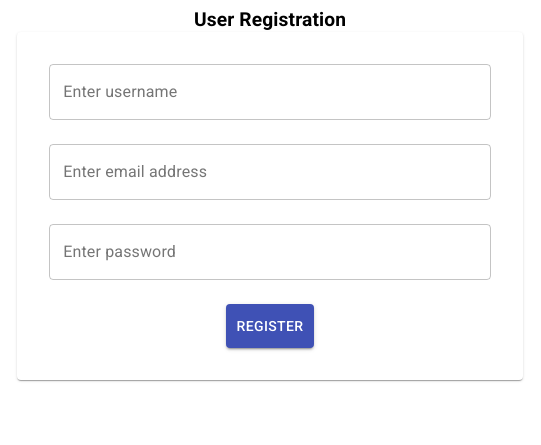
Test: Register from › should show invalid error message for password and email when input is invalid
Type "invalid email" into the field labelled "Enter email address".
click(270, 172); type("invalid email")  # box [49, 144, 491, 200]
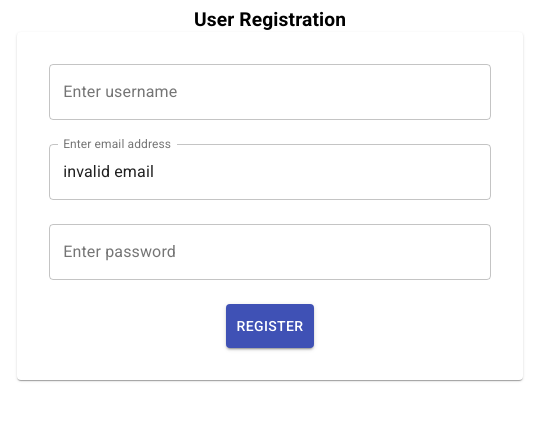
Type "pass" into the password field labelled "Enter password".
click(270, 252); type("pass")  # box [49, 224, 491, 280]
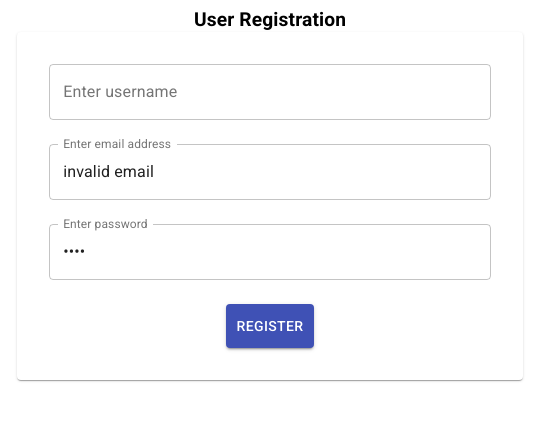
Type "valid username" into the field labelled "Enter username".
click(270, 92); type("valid username")  # box [49, 64, 491, 120]
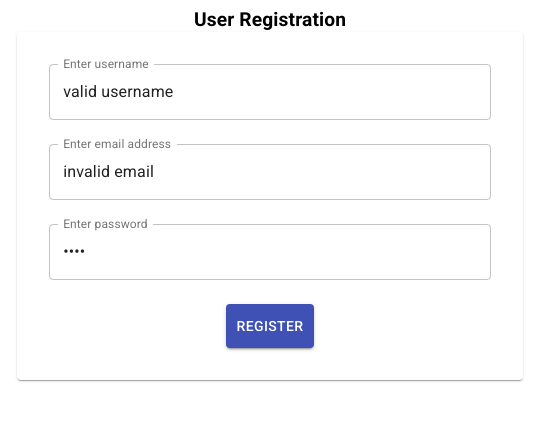
Click the button "Register".
click(270, 326)  # box [226, 304, 314, 348]
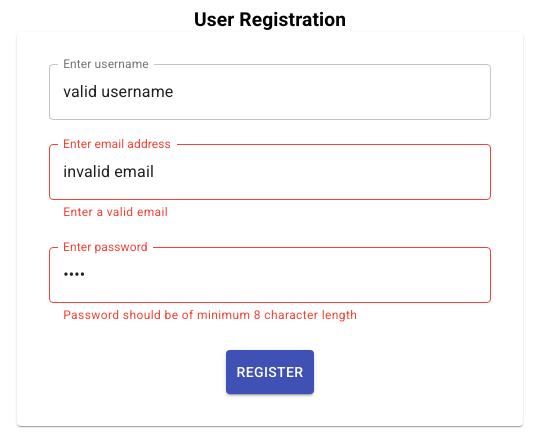
Check: the text "Enter a valid email" is shown, box [63, 205, 168, 219]
Check: the text "Password should be of minimum 8 character length" is shown, box [63, 308, 357, 322]
